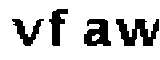a: (80, 16, 113, 49)
f: (48, 4, 72, 52)
v: (9, 14, 44, 51)
w: (114, 16, 159, 52)
